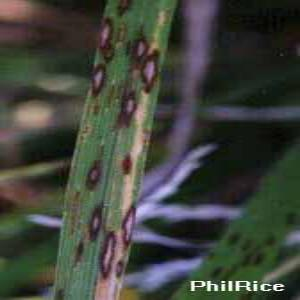Rice_Blast: (82, 60, 116, 104), (81, 144, 109, 197), (74, 203, 111, 241), (117, 198, 145, 245), (115, 89, 146, 131), (96, 228, 118, 285), (95, 14, 116, 60), (140, 47, 160, 91), (125, 29, 150, 59)
